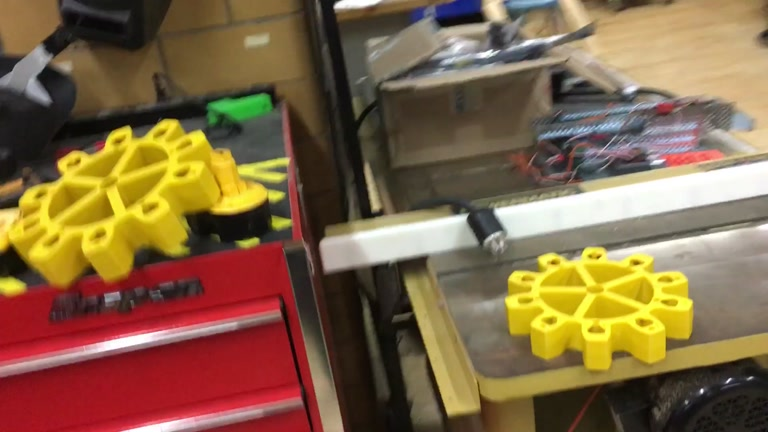gear: (8, 117, 221, 286), (504, 245, 693, 370)
